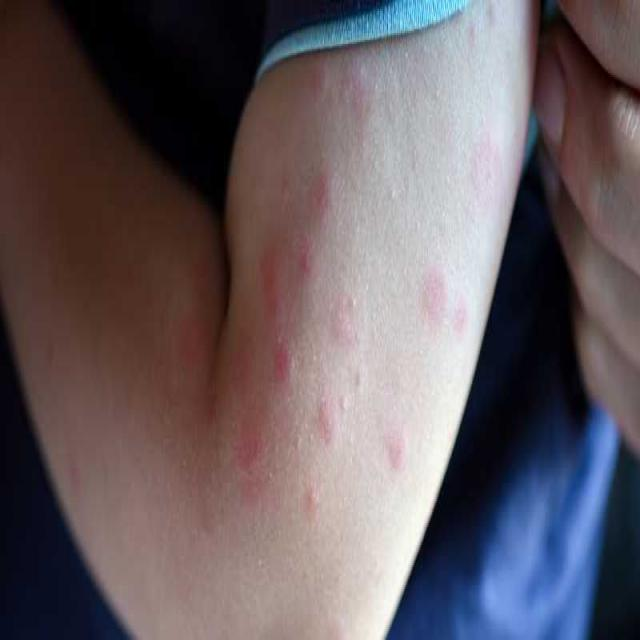hives: (174, 39, 521, 569)
